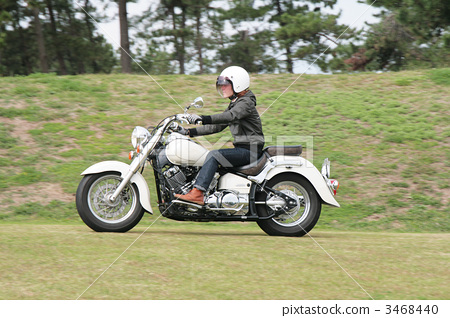helmet: (217, 68, 256, 103)
